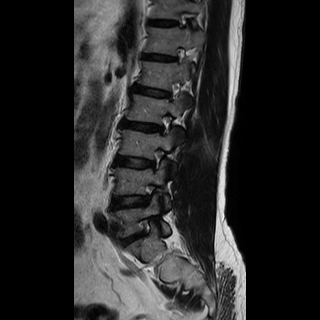LFS0: (155, 109, 178, 141), (164, 78, 186, 106)
LFS1: (133, 214, 165, 246), (146, 144, 170, 179)
LFS3: (138, 181, 168, 212)
